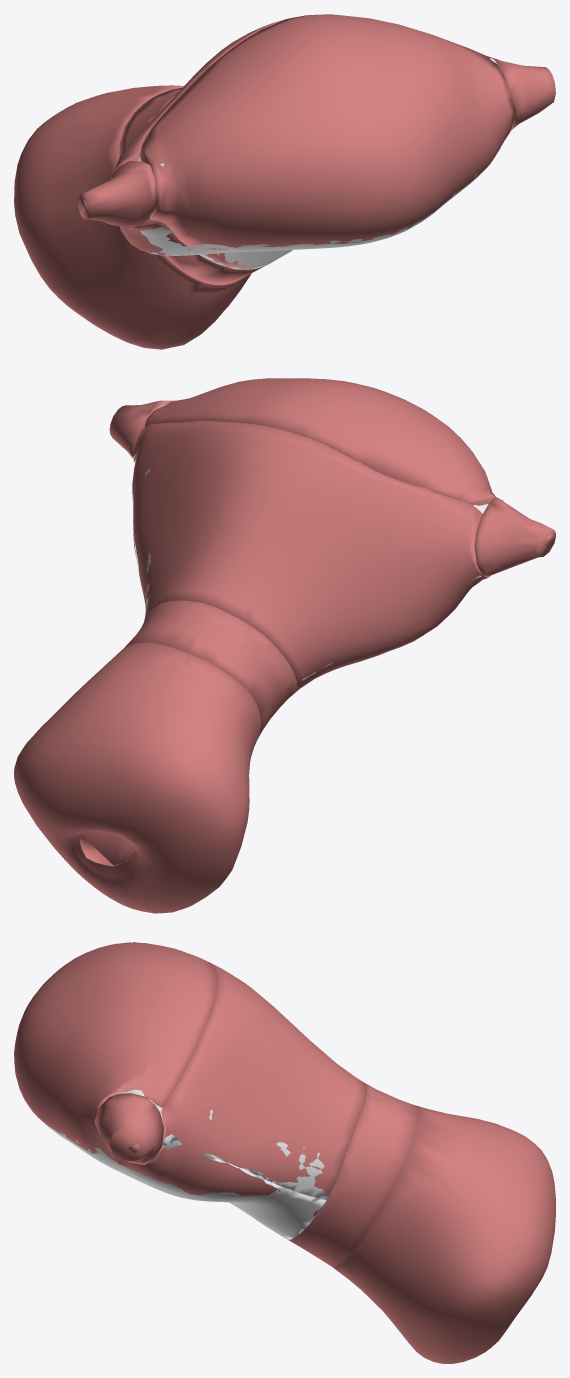
Rendered from vh_f_uterus-40.fbx.
The picture shows the model from 3 angles, top to bottom: view 1: azimuth 30°, elevation 25°; view 2: azimuth 150°, elevation 25°; view 3: azimuth 270°, elevation 25°; orthographic projection. The views are drawn at different scales.
Visible parts, largest first — view 1: VH_F_fundus_of_uterus, VH_F_cervix, VH_F_cornua, VH_F_posterior_wall_of_uterus, VH_F_lower_uterine_segment, VH_F_body_of_uterus; view 2: VH_F_body_of_uterus, VH_F_cervix, VH_F_fundus_of_uterus, VH_F_lower_uterine_segment, VH_F_cornua; view 3: VH_F_cervix, VH_F_body_of_uterus, VH_F_fundus_of_uterus, VH_F_lower_uterine_segment, VH_F_posterior_wall_of_uterus, VH_F_cornua, VH_F_anterior_wall_of_uterus.
Boxes of the visible parts, <box> form: VH_F_fundus_of_uterus: <box>140,14,516,250</box>; VH_F_cervix: <box>14,85,251,349</box>; VH_F_cornua: <box>78,58,555,227</box>; VH_F_posterior_wall_of_uterus: <box>140,146,501,269</box>; VH_F_lower_uterine_segment: <box>119,87,263,285</box>; VH_F_body_of_uterus: <box>110,16,511,268</box>; VH_F_body_of_uterus: <box>132,421,486,696</box>; VH_F_cervix: <box>14,642,261,913</box>; VH_F_fundus_of_uterus: <box>144,378,495,505</box>; VH_F_lower_uterine_segment: <box>123,600,297,738</box>; VH_F_cornua: <box>109,400,555,577</box>; VH_F_cervix: <box>333,1105,555,1363</box>; VH_F_body_of_uterus: <box>115,962,366,1216</box>; VH_F_fundus_of_uterus: <box>14,942,217,1163</box>; VH_F_lower_uterine_segment: <box>289,1083,419,1267</box>; VH_F_posterior_wall_of_uterus: <box>42,1111,326,1239</box>; VH_F_cornua: <box>95,942,163,1164</box>; VH_F_anterior_wall_of_uterus: <box>97,1089,348,1200</box>.
Bounding box in the file's own units: 5.25 × 4.7 × 5.87.
